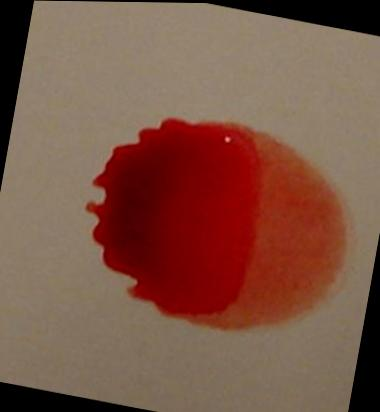Fire: (84, 116, 349, 331)
